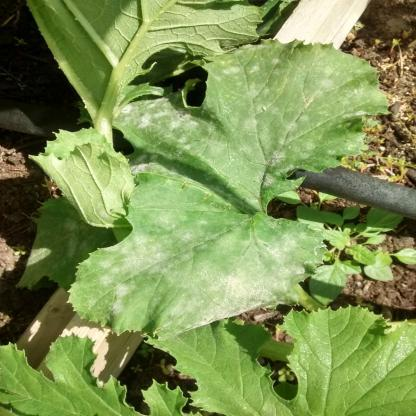Squash Powdery mildew leaf: (56, 162, 335, 346), (113, 41, 400, 209)
